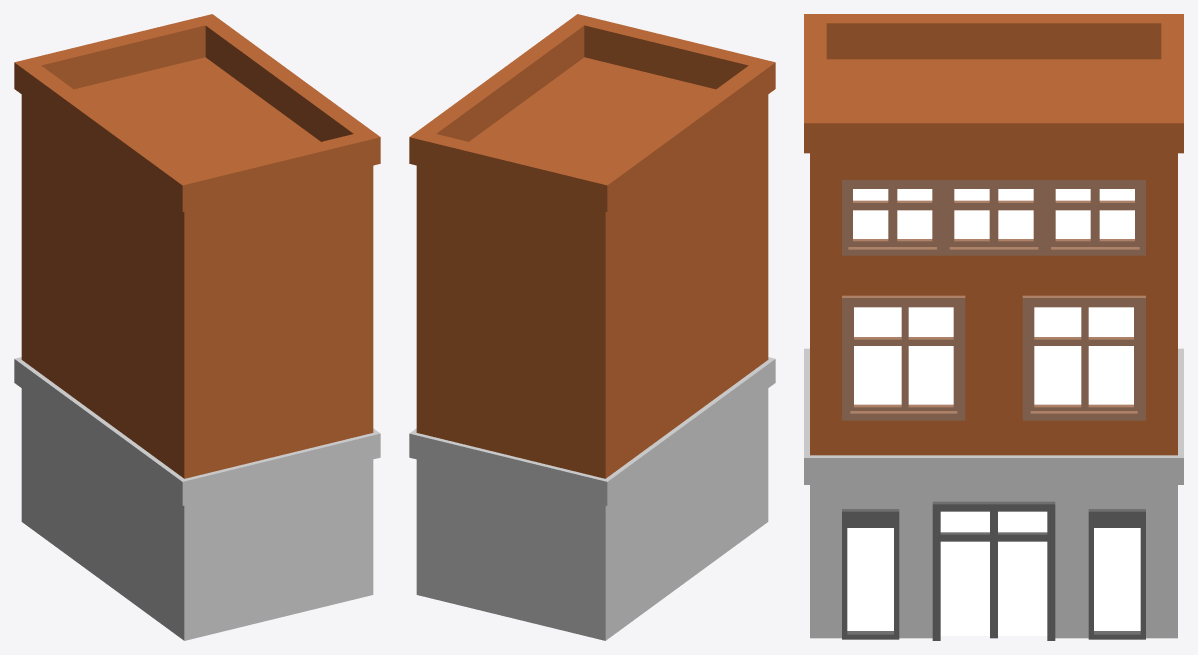
The model's file is House 5.1.fbx.
3 renders of one model, left to right at view 1: azimuth 30°, elevation 25°; view 2: azimuth 150°, elevation 25°; view 3: azimuth 270°, elevation 25°, orthographic. The views are drawn at different scales.
Parts seen in each view (by area): view 1: House 5.002; view 2: House 5.002; view 3: House 5.002.
Boxes of the visible parts, box(x1,y1,x2,y2) form: House 5.002: box(14, 14, 380, 640); House 5.002: box(409, 14, 775, 640); House 5.002: box(804, 14, 1183, 640).
Size of the model in its own units: 869 by 1923 by 1279.
